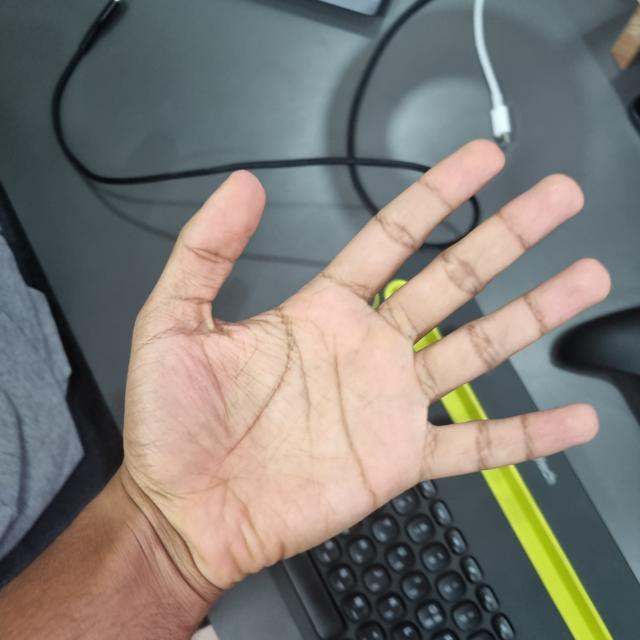Paper: (123, 138, 609, 577)
